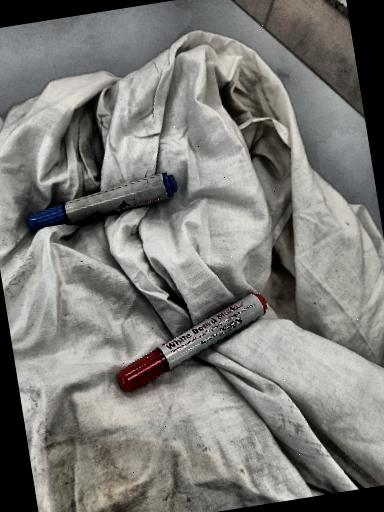marcador azul: (27, 172, 177, 232)
marcador rojo: (118, 293, 267, 391)
